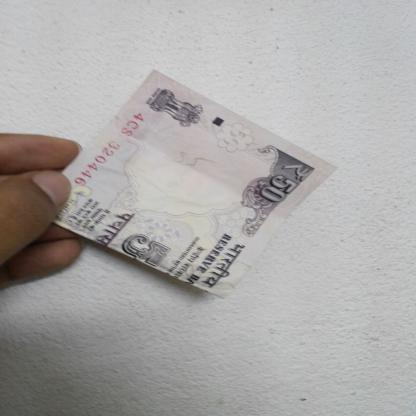Old50Front: (51, 69, 338, 300)
